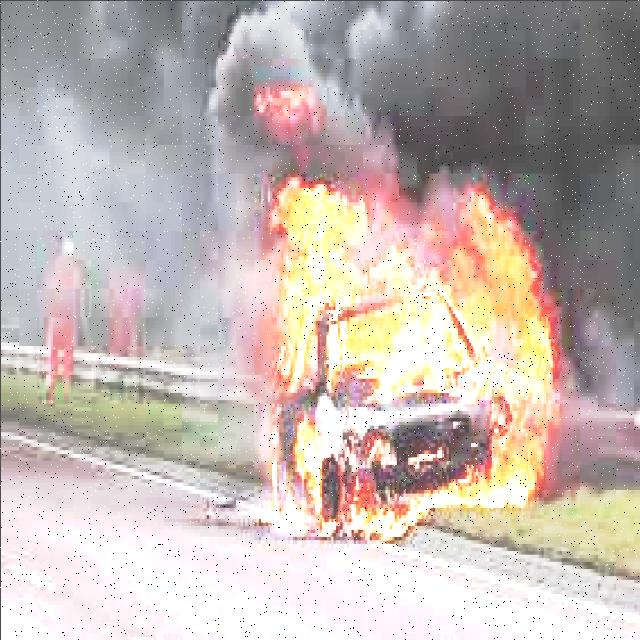api: (266, 174, 551, 540)
